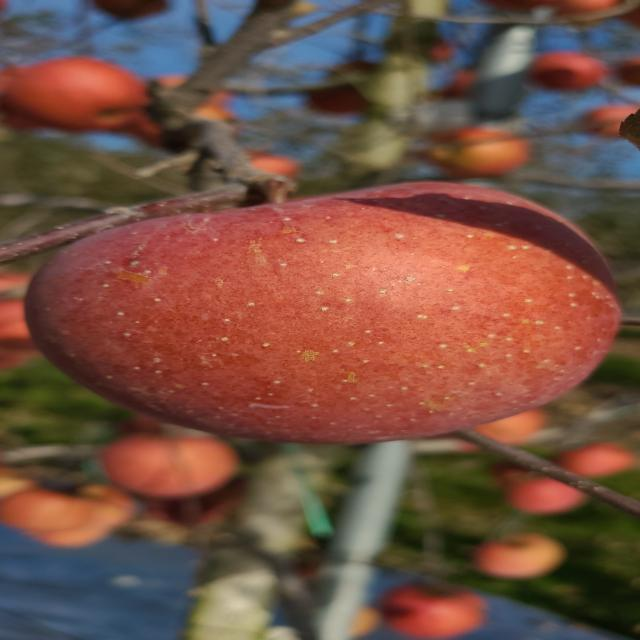fresh: (1, 173, 640, 451)
